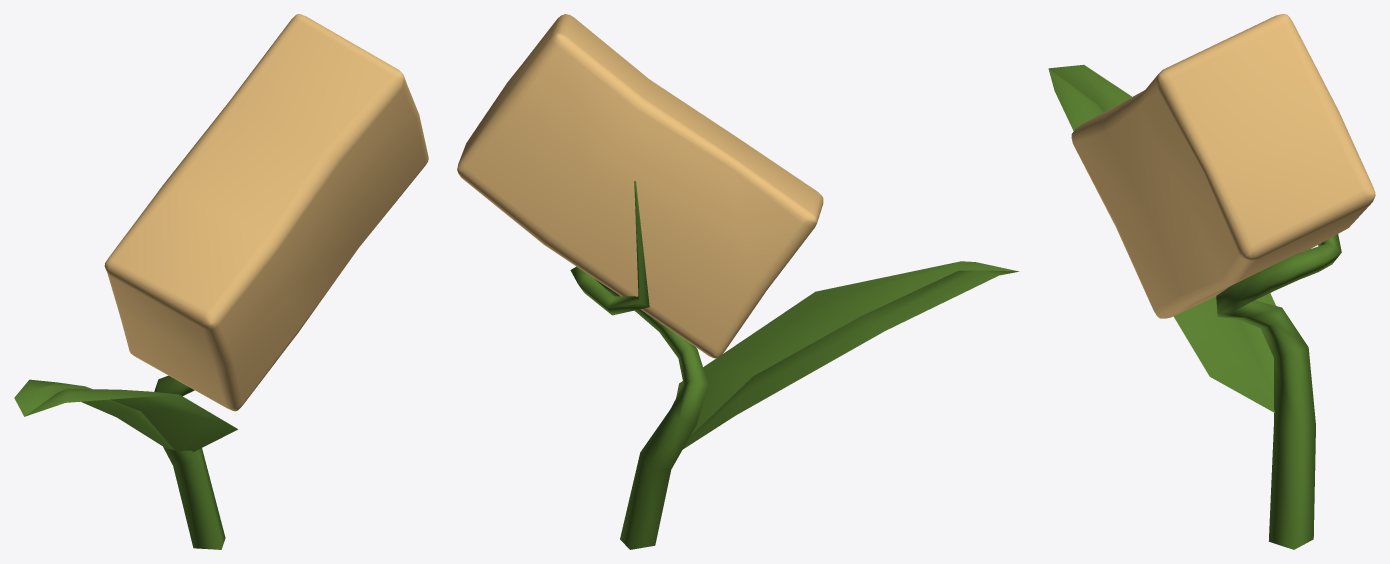
File: butter_plant_1.fbx
The picture shows the model from 3 angles, left to right: view 1: azimuth 30°, elevation 25°; view 2: azimuth 150°, elevation 25°; view 3: azimuth 270°, elevation 25°; orthographic projection. The views are drawn at different scales.
Parts seen in each view (by area): view 1: NurbsPath; view 2: NurbsPath; view 3: NurbsPath.
Part boxes in pixels (bbox=[...]): NurbsPath: bbox=[14, 14, 428, 549]; NurbsPath: bbox=[457, 14, 1019, 549]; NurbsPath: bbox=[1048, 14, 1375, 549].
Bounding box in the file's own units: 56.47 × 55.86 × 28.88.
